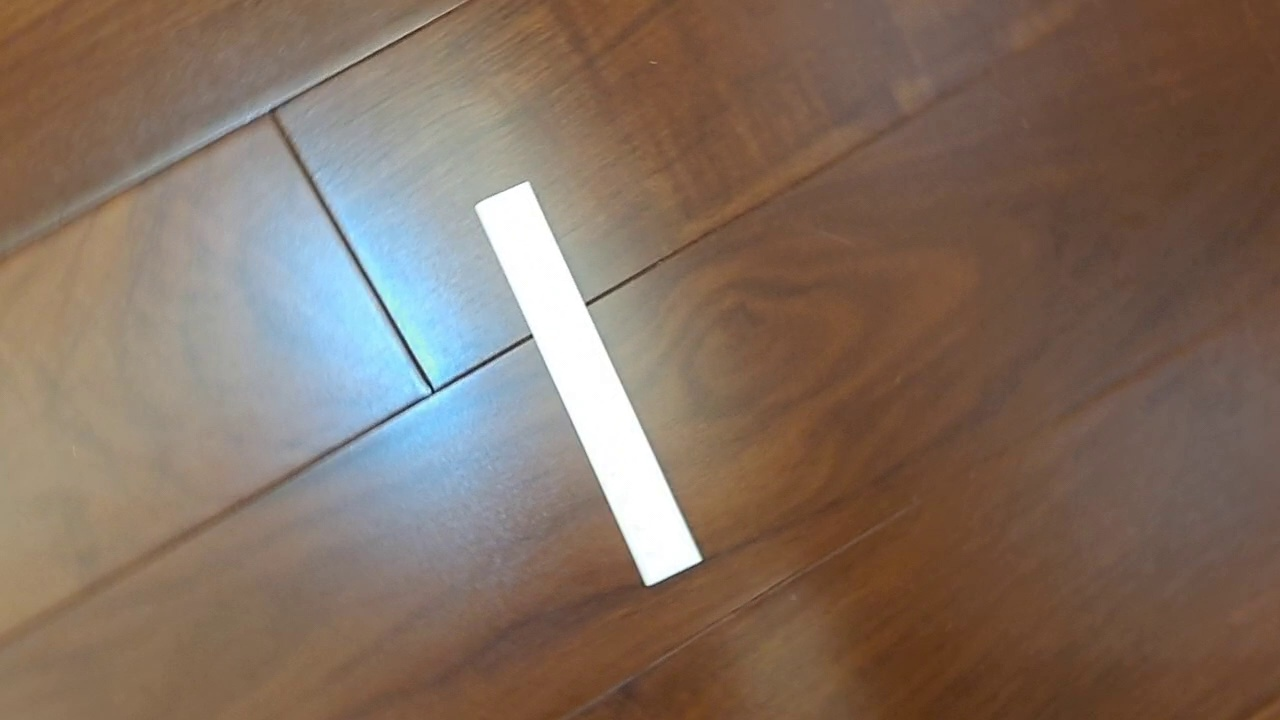ruler: (473, 179, 705, 588)
